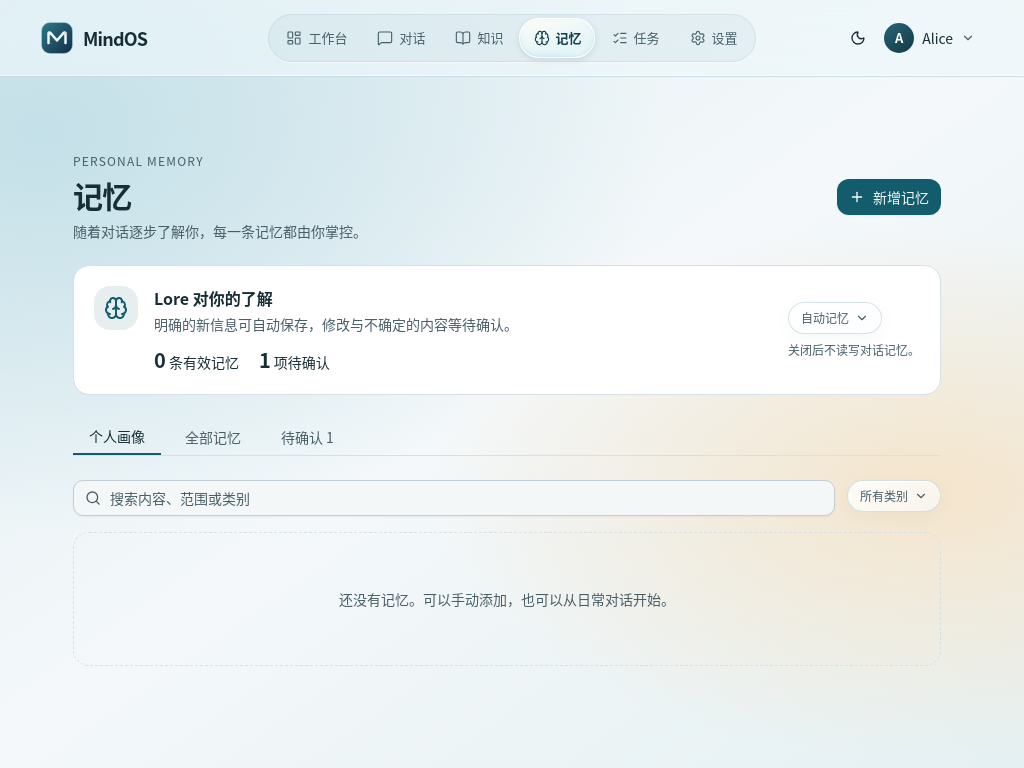
Test case: 可以在待确认列表保存建议，并在记忆列表显示生效值
The image size is (1024, 768).
Expected: the text "自动记忆" is shown, [801,310,849,326]
Click the button "待确认 1" at (307, 437), box [265,419,350,455]
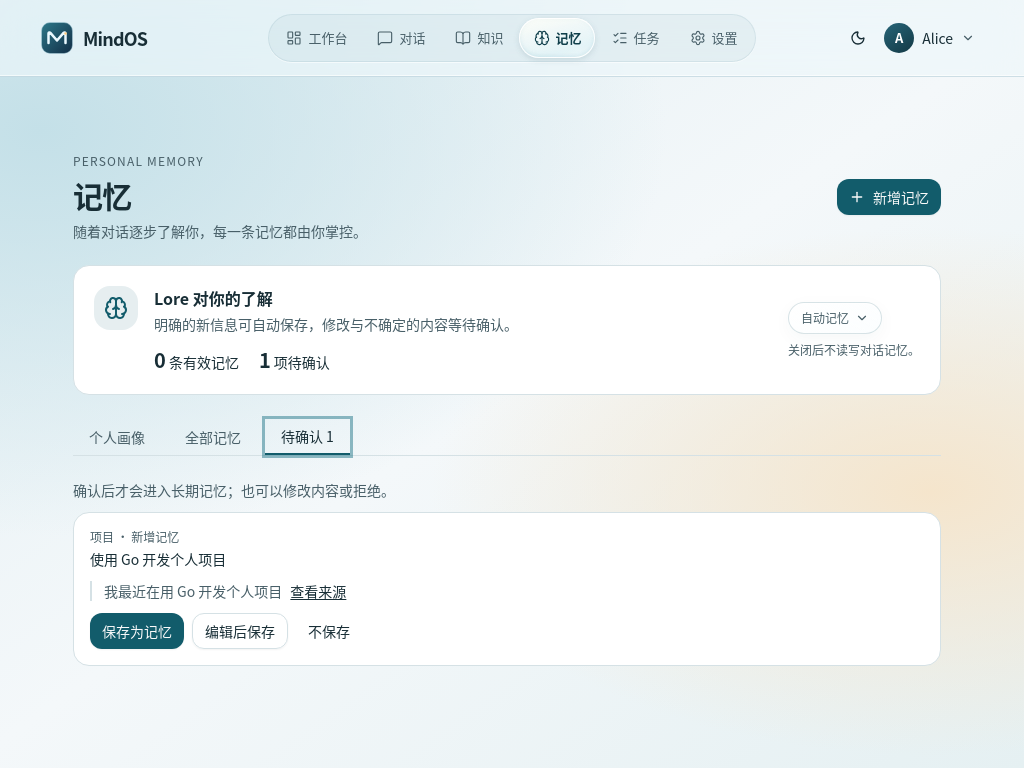
Expected: the text "我最近在用 Go 开发个人项目" is shown, [104,581,282,601]
Click the button "保存为记忆" at (137, 631), box [90,613,184,649]
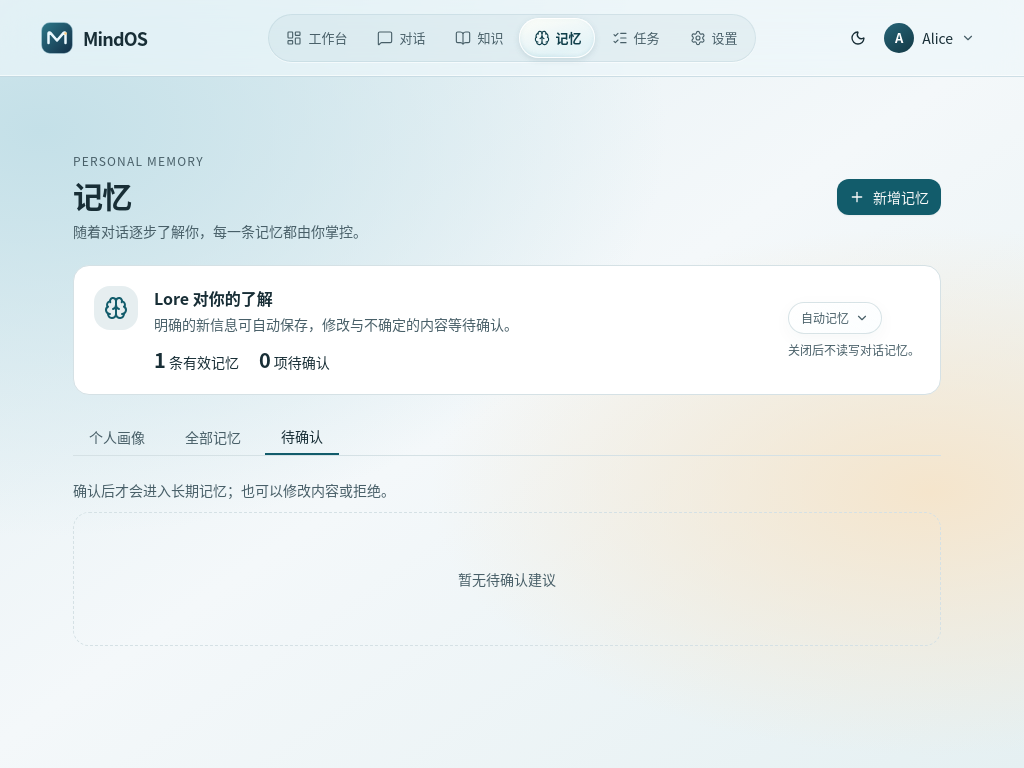
Expected: the text "我最近在用 Go 开发个人项目" is gone
Click the button "全部记忆" at (213, 437), box [169,419,257,455]
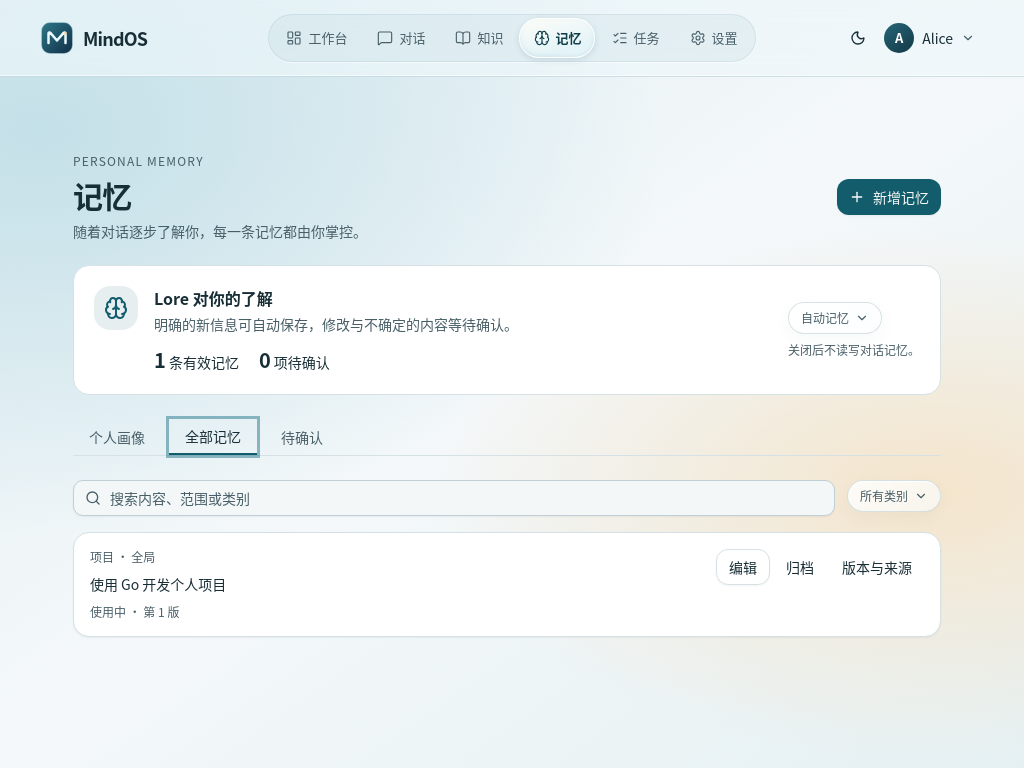
Expected: the text "使用 Go 开发个人项目" is shown, [90,574,226,594]
